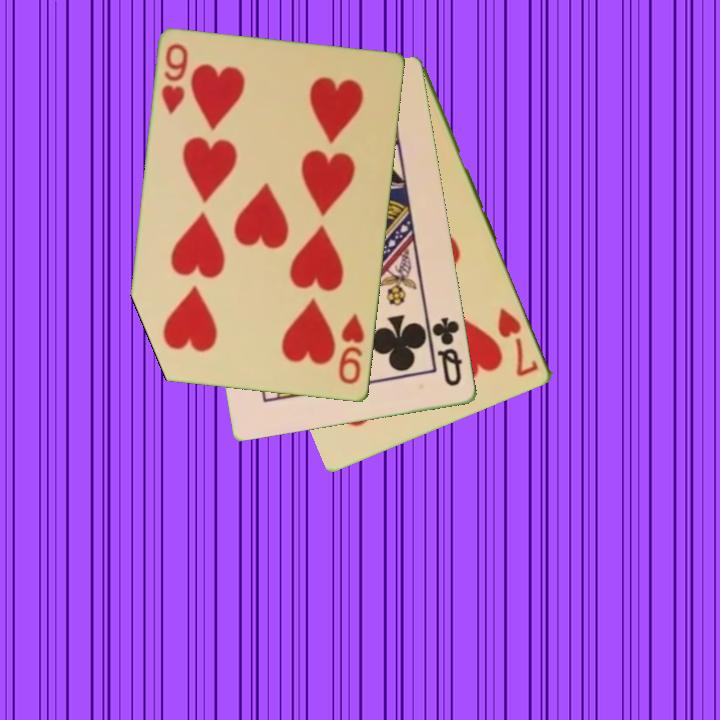7h: (494, 304, 542, 380)
9h: (335, 311, 368, 388), (158, 41, 191, 118)
Qc: (426, 313, 466, 390)
